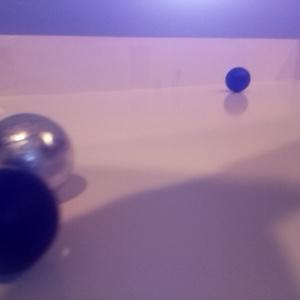alive_ball: (1, 113, 73, 194)
dead_ball: (1, 168, 59, 277), (225, 67, 251, 93)
